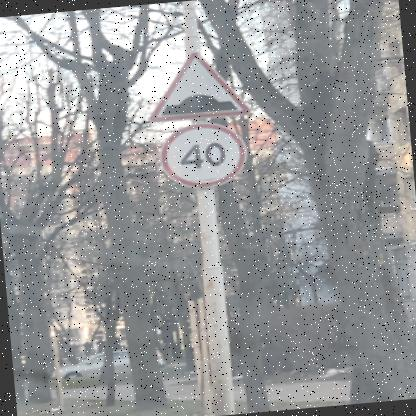speedlimit: (156, 119, 246, 190)
